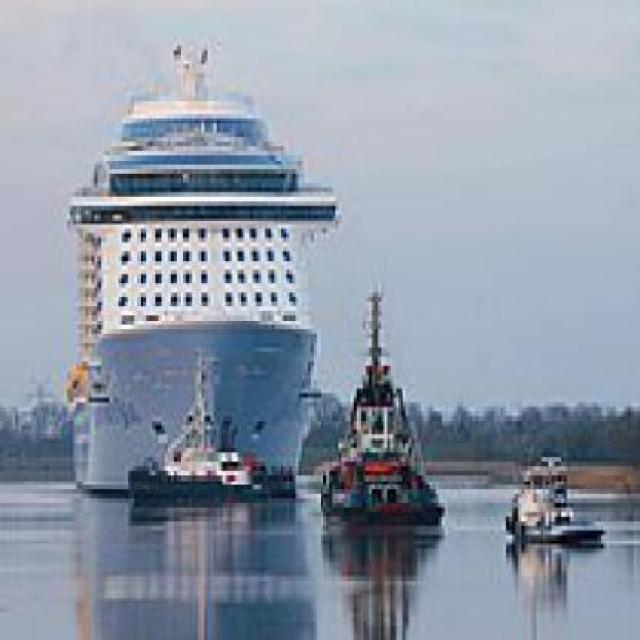cruise: (44, 38, 349, 522)
